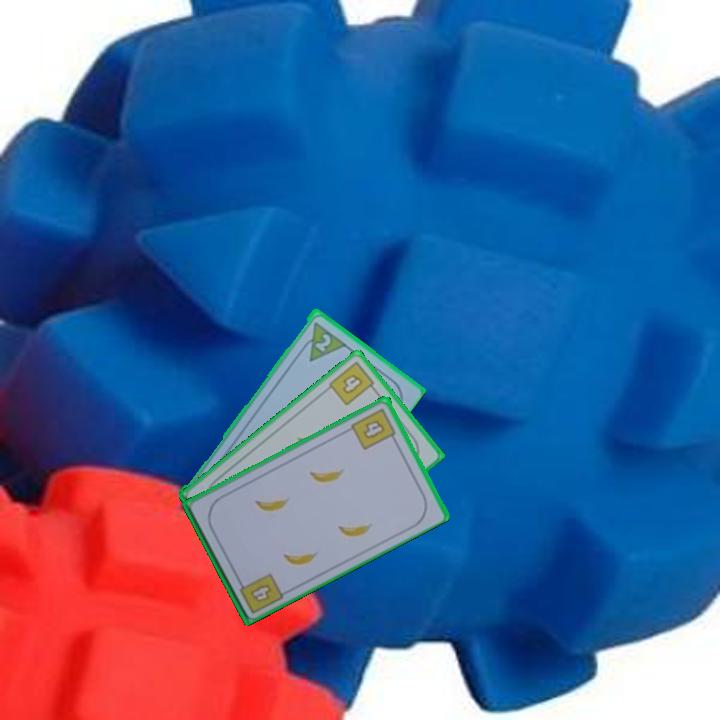2p: (311, 330, 334, 354)
4b: (325, 357, 380, 408), (348, 404, 400, 452), (249, 580, 274, 605)
